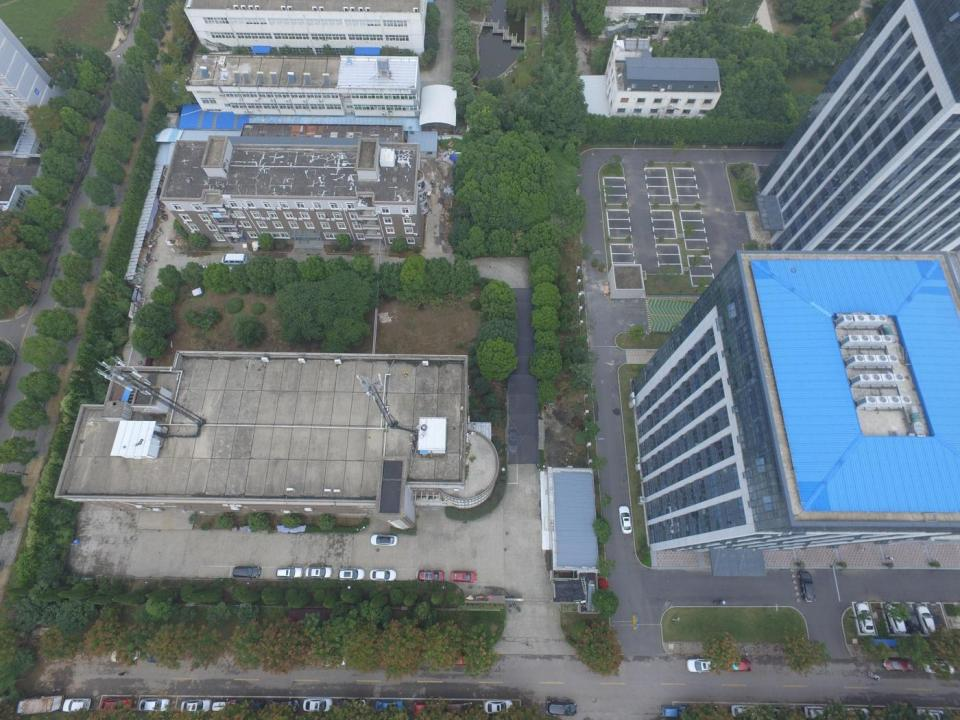car: (884, 604, 906, 635), (915, 605, 937, 635), (855, 602, 874, 633), (798, 570, 816, 602), (902, 604, 920, 634), (546, 699, 577, 716), (686, 657, 718, 673), (695, 704, 727, 720), (337, 697, 367, 714), (138, 697, 171, 712), (180, 698, 212, 713), (99, 698, 133, 712), (413, 701, 443, 716), (484, 699, 514, 714), (146, 648, 178, 662), (302, 698, 334, 712), (923, 660, 955, 674), (110, 648, 140, 662), (722, 658, 752, 672), (63, 698, 92, 712), (618, 505, 632, 534), (212, 698, 239, 713), (269, 699, 300, 712), (883, 659, 914, 672), (445, 653, 475, 666), (374, 700, 404, 713), (768, 705, 795, 719), (370, 533, 398, 546), (305, 566, 333, 579), (338, 568, 366, 581), (447, 701, 473, 715), (730, 705, 758, 718), (276, 566, 303, 579), (370, 568, 397, 581), (418, 569, 445, 582), (321, 654, 348, 667), (804, 706, 831, 719), (843, 707, 870, 720), (232, 566, 261, 578), (450, 570, 476, 583), (661, 705, 687, 718), (918, 708, 946, 720), (241, 699, 266, 712), (509, 426, 517, 453)
truck: (16, 694, 64, 714)
van: (221, 253, 248, 265)
